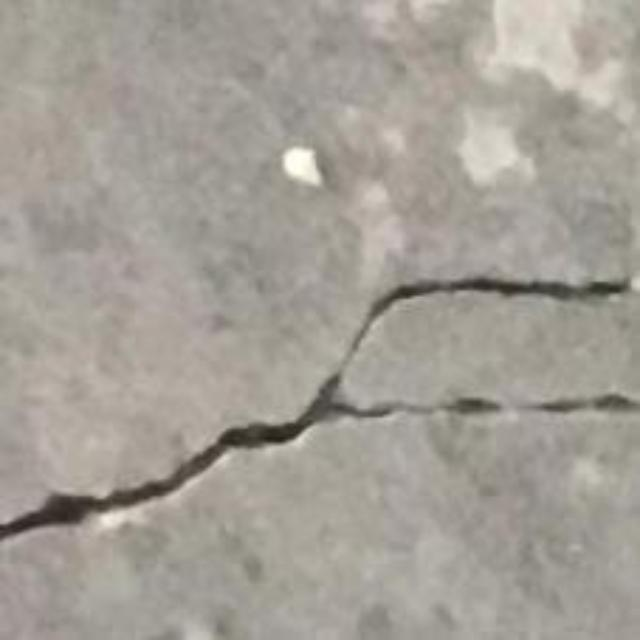crack: (0, 277, 634, 541)
peeling plaster: (474, 0, 620, 104)
